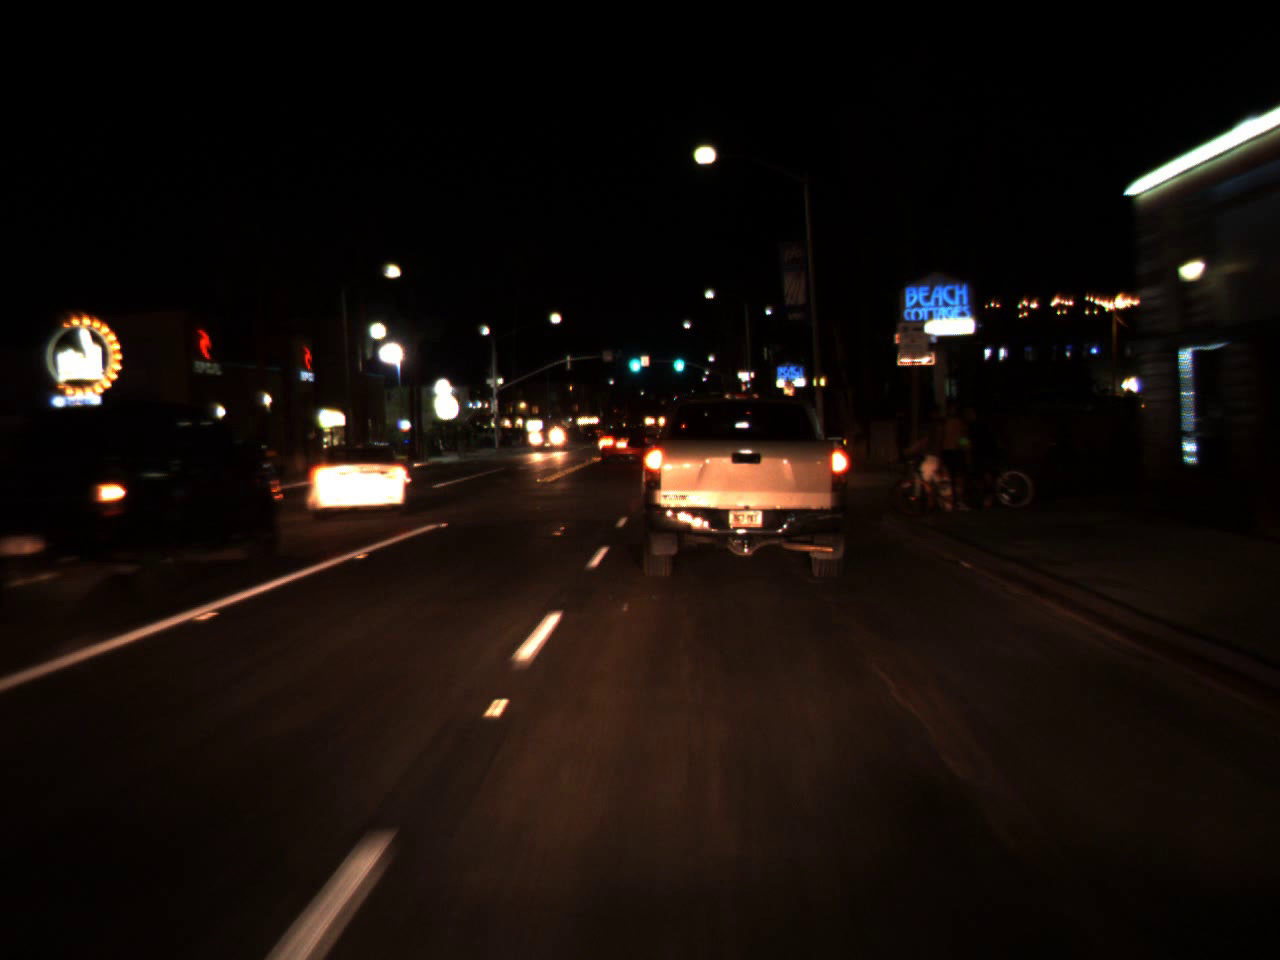go: (624, 343, 645, 376), (669, 343, 687, 376)
